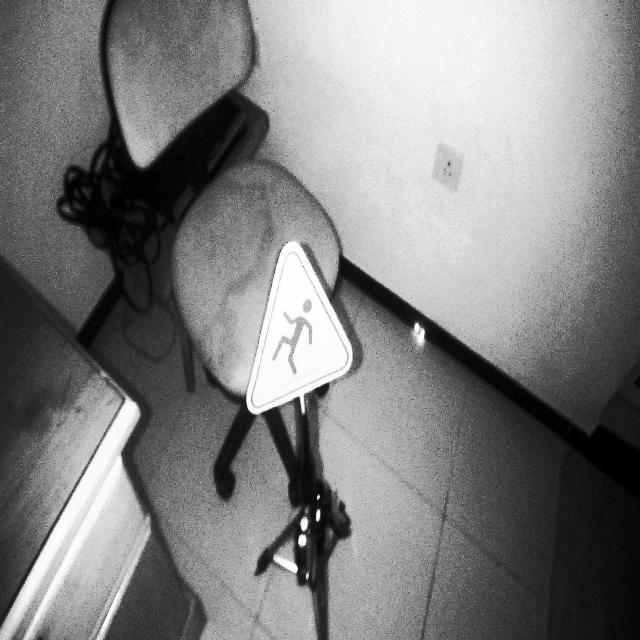Sign: (245, 240, 354, 418)
